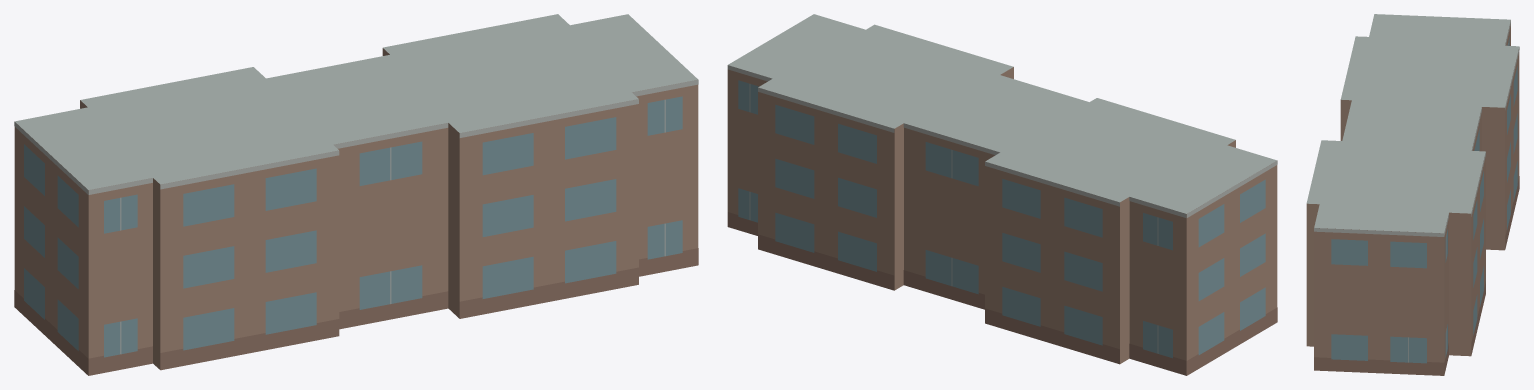
File: survey-upis-32799330.glb
3 renders of one model, left to right at view 1: azimuth 30°, elevation 25°; view 2: azimuth 150°, elevation 25°; view 3: azimuth 270°, elevation 25°, orthographic. The views are drawn at different scales.
Parts seen in each view (by area): view 1: survey-upis-32799330.tmp; view 2: survey-upis-32799330.tmp; view 3: survey-upis-32799330.tmp.
Part boxes in pixels (x1=…): survey-upis-32799330.tmp: x1=14, y1=14, x2=698, y2=375; survey-upis-32799330.tmp: x1=727, y1=14, x2=1277, y2=375; survey-upis-32799330.tmp: x1=1306, y1=14, x2=1519, y2=375.
Bounding box in the file's own units: 30.18 × 9.15 × 12.39.
